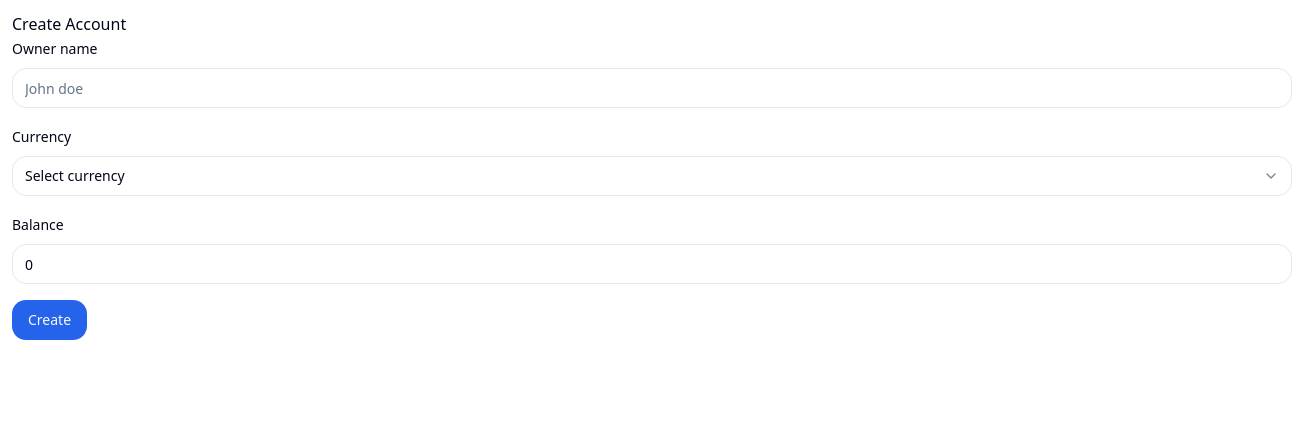
CreateAccountForm › validates input fields
Click the button "Create" at (50, 320), box x1=12 y1=300 x2=87 y2=340
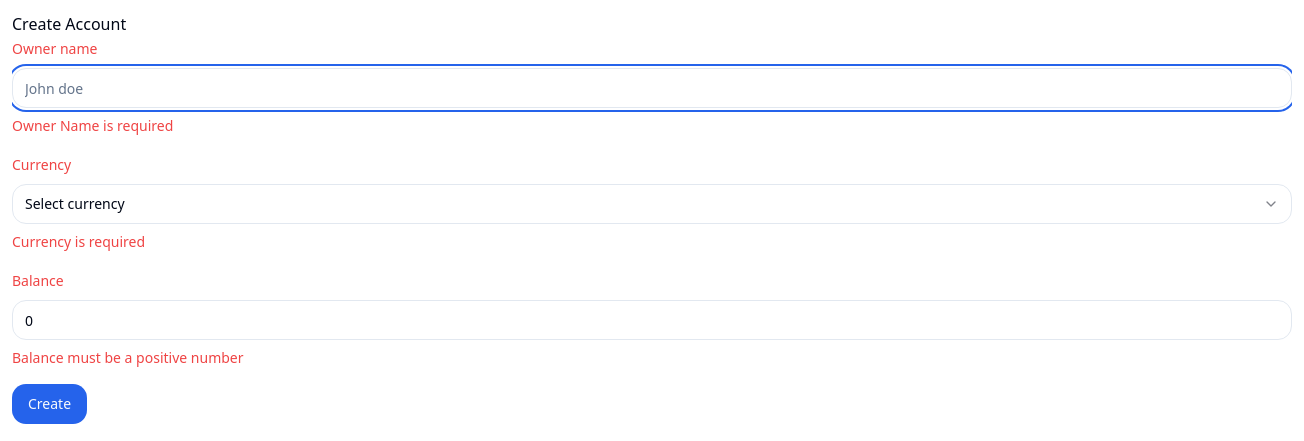
Now the text "Owner Name is required" is shown, box x1=12 y1=116 x2=173 y2=135
Now the text "Currency is required" is shown, box x1=12 y1=232 x2=145 y2=251
Now the text "Balance must be a positive number" is shown, box x1=12 y1=348 x2=244 y2=367
